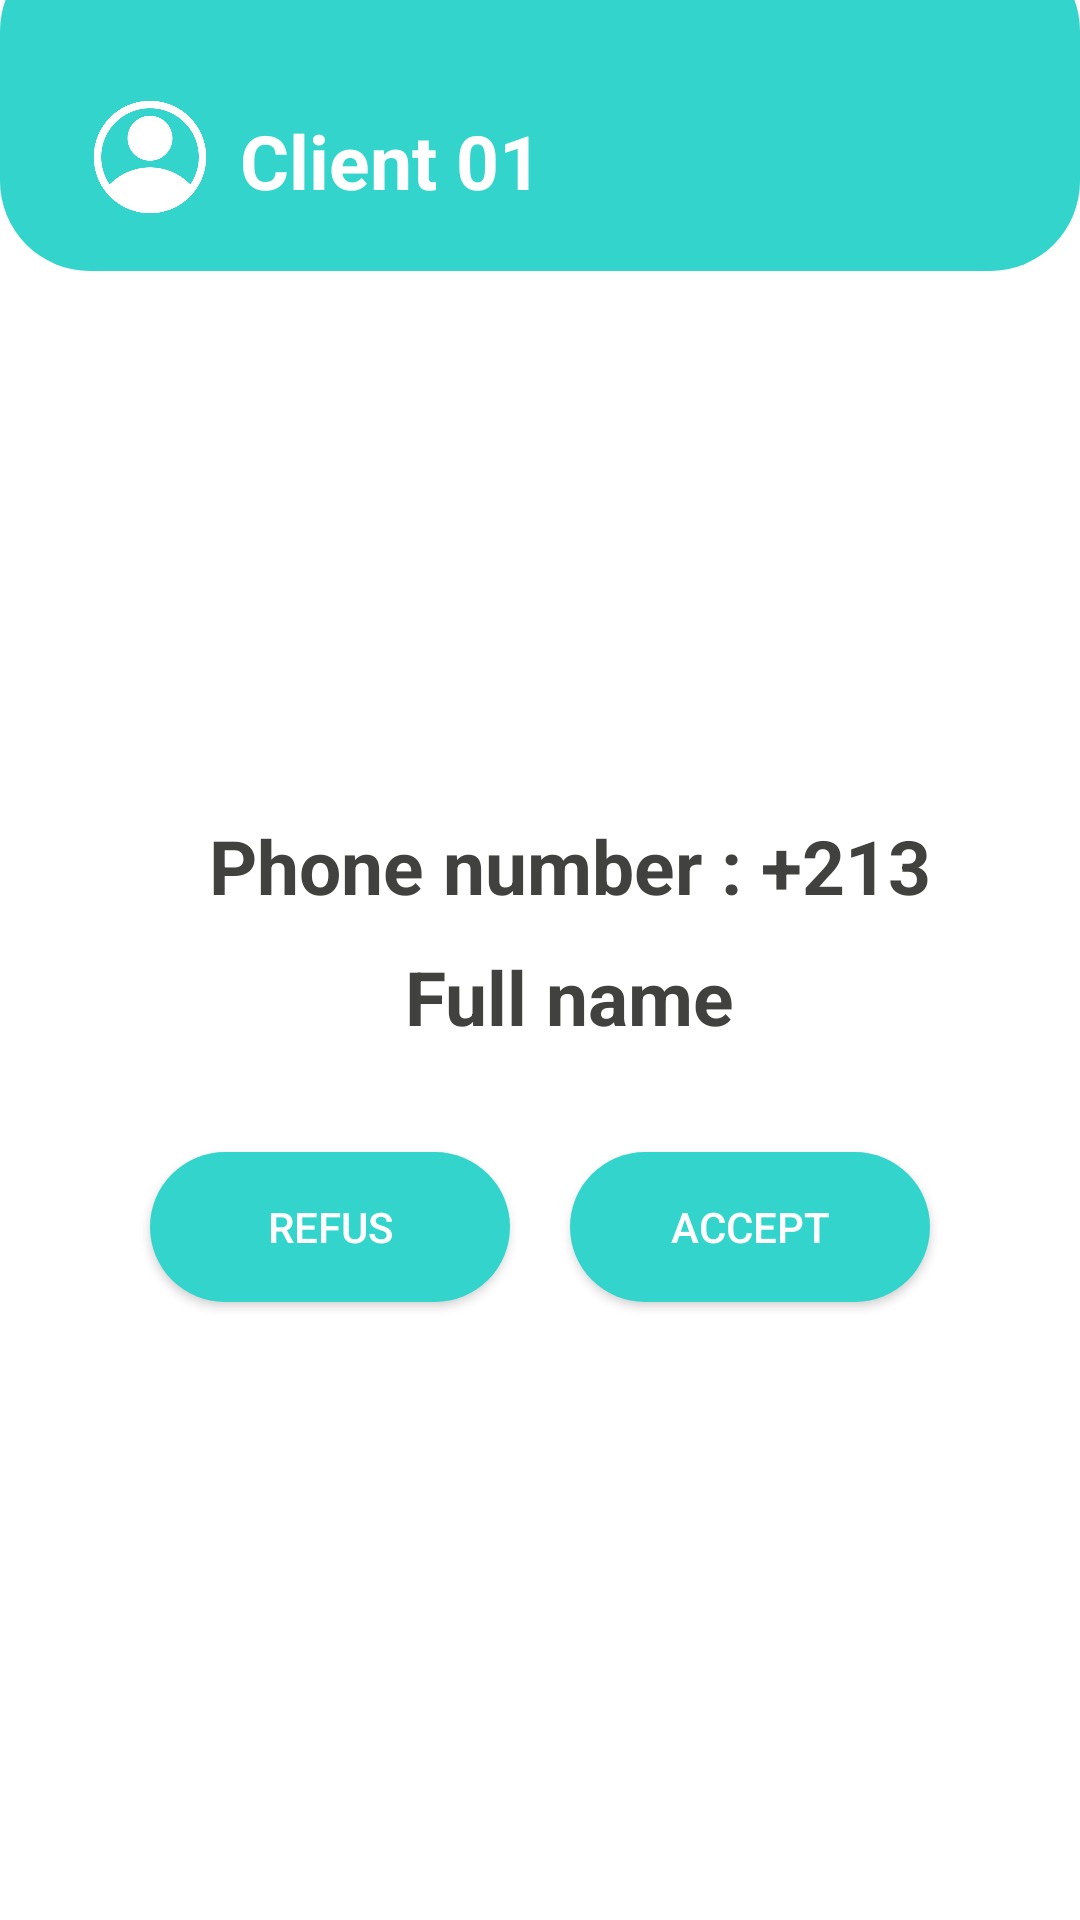

Point at icon controls on the screen. Image size 1080 × 1920, points as [x,y].
account: [150,157]
